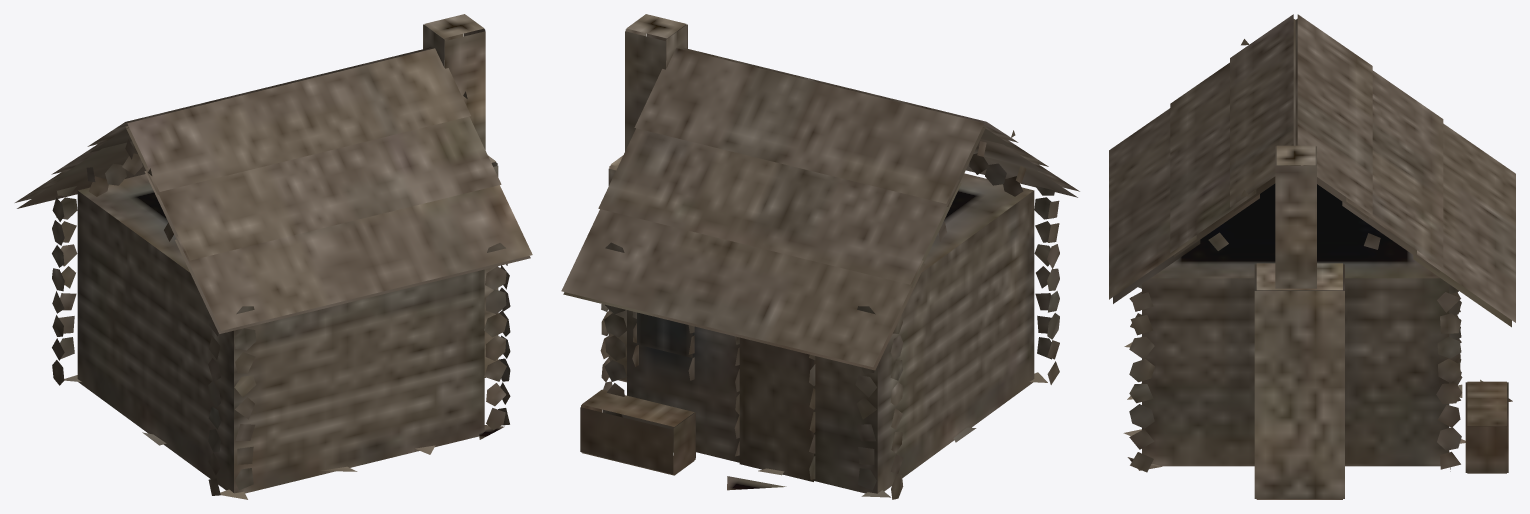
The model's file is b_hut_xfar.glb.
The picture shows the model from 3 angles, left to right: view 1: azimuth 30°, elevation 25°; view 2: azimuth 150°, elevation 25°; view 3: azimuth 270°, elevation 25°; orthographic projection.
Parts seen in each view (by area): view 1: b_hut_xfar; view 2: b_hut_xfar; view 3: b_hut_xfar.
Boxes of the visible parts, x1=… form: b_hut_xfar: x1=15, y1=14, x2=532, y2=499; b_hut_xfar: x1=561, y1=14, x2=1079, y2=499; b_hut_xfar: x1=1109, y1=14, x2=1515, y2=499.
Bounding box in the file's own units: 3.8 × 3.5 × 3.87.
Materials: 1 (1 with a texture image).
